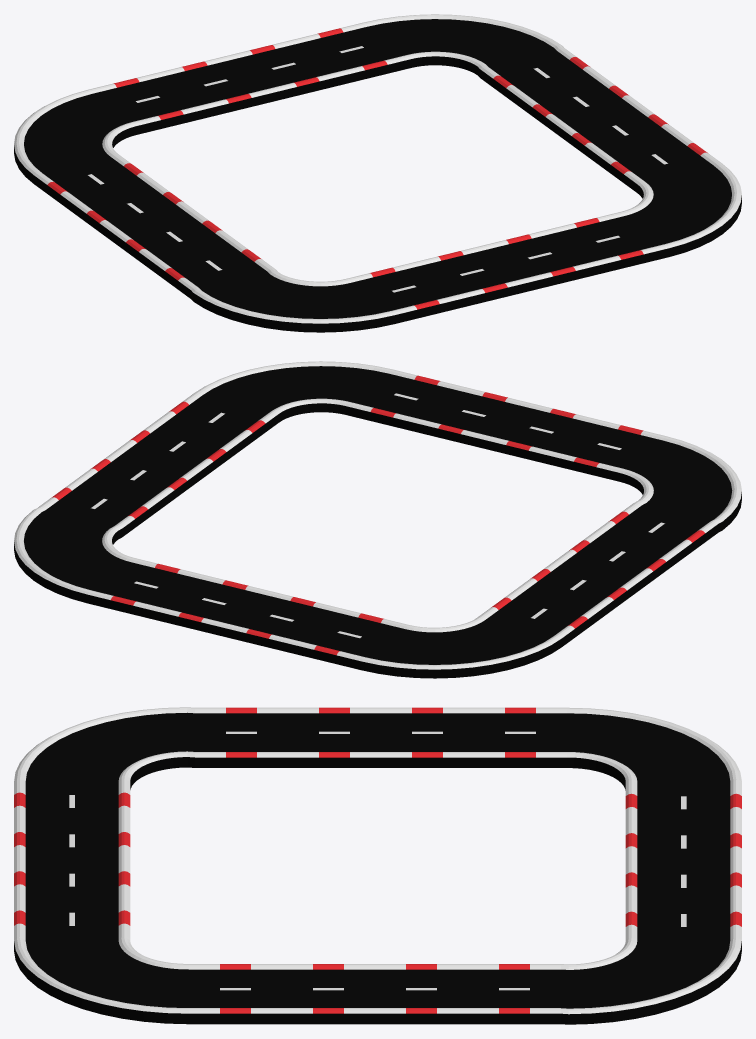
Rendered from Track.001.fbx.
The picture shows the model from 3 angles, top to bottom: view 1: azimuth 30°, elevation 25°; view 2: azimuth 150°, elevation 25°; view 3: azimuth 270°, elevation 25°; orthographic projection. The views are drawn at different scales.
Visible parts, largest first — view 1: Plane; view 2: Plane; view 3: Plane.
Part boxes in pixels (box(x1,y1,x2,y2)): Plane: box(14, 14, 741, 332); Plane: box(14, 361, 741, 678); Plane: box(14, 707, 741, 1024).
Size of the model in its own units: 62.38 by 1.23 by 62.65.
